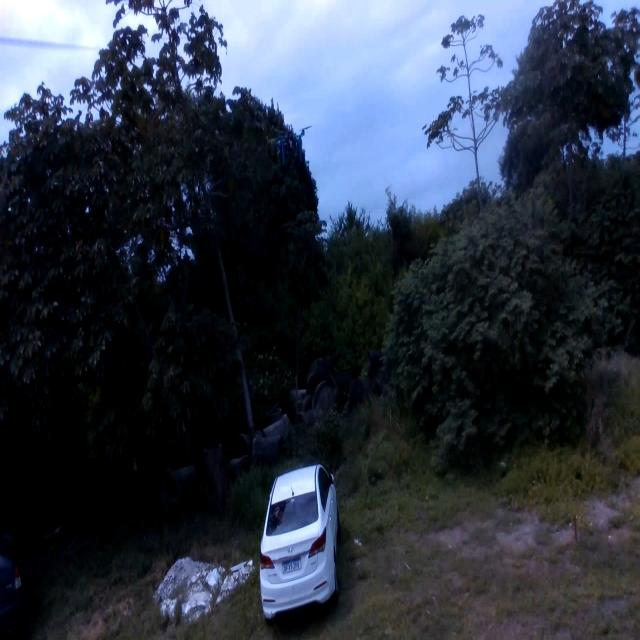-uav-: (264, 114, 316, 179)
